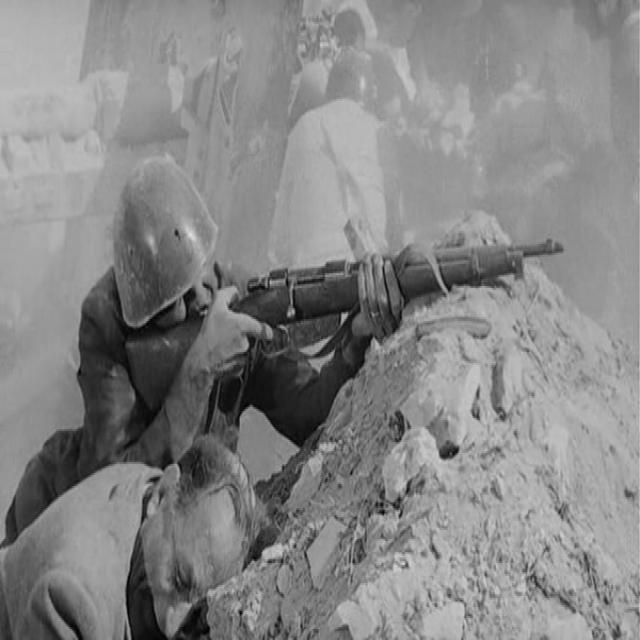rifle: (124, 228, 566, 425)
